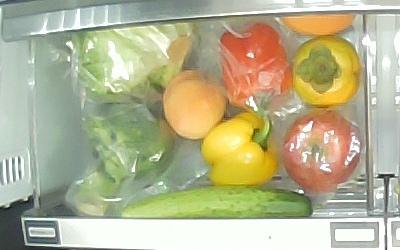apple_vinyl: (282, 109, 362, 193)
broccoli_vinyl: (64, 104, 176, 216)
cucumber: (120, 187, 313, 219)
lettuce_vinyl: (70, 22, 201, 103)
paprika: (200, 113, 279, 187)
paprika_vinyl: (221, 22, 293, 115)
peach: (163, 70, 227, 139)
persimmon: (291, 36, 361, 108)
